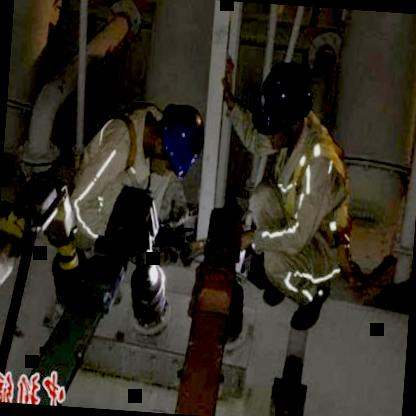helmet: (247, 58, 316, 157), (150, 96, 208, 185)
